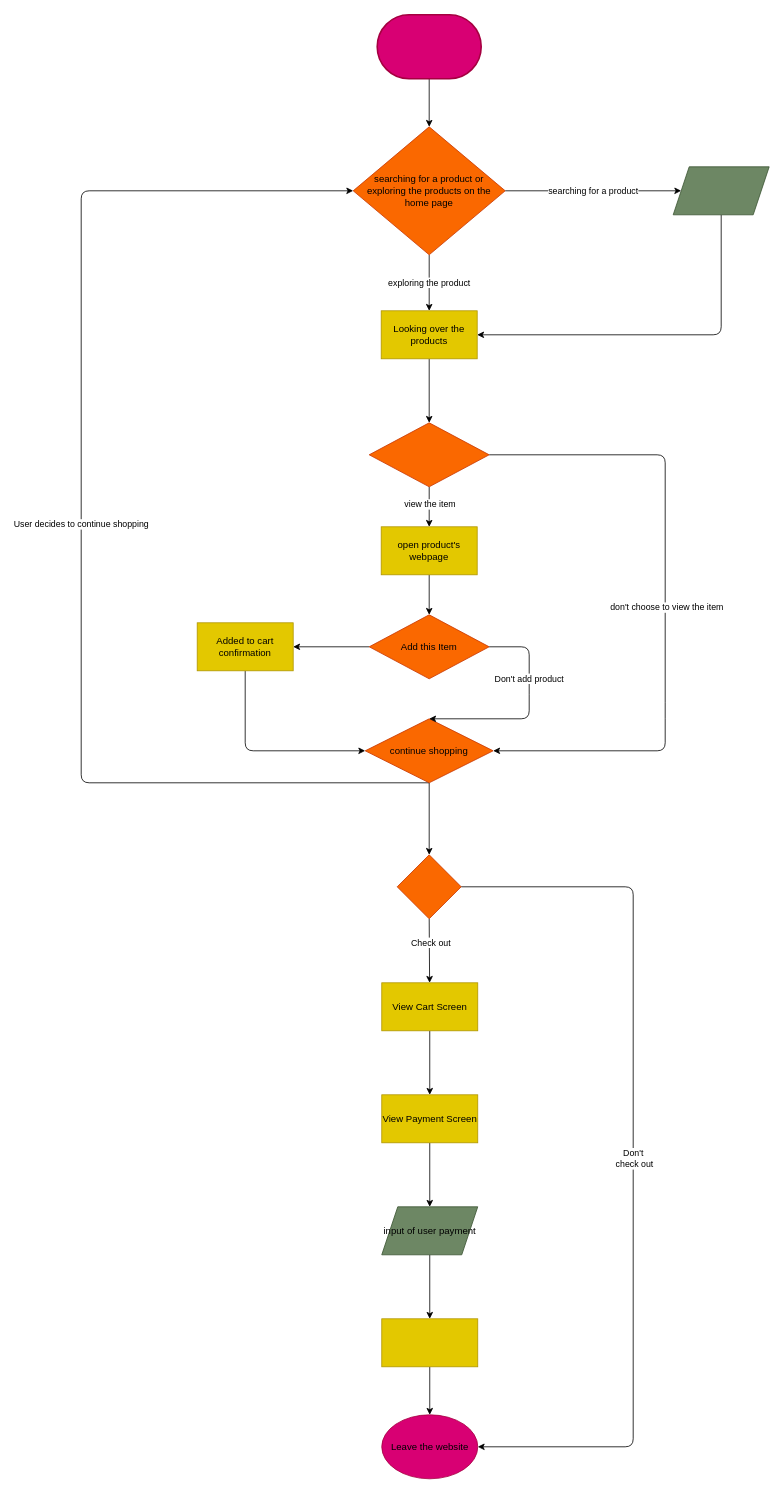
Some shapes in this 783 by 1493 pixel diagram are drawn without their labels. Here are the shapes that lost their labels. From the top down, the box of each, then its label:
(376, 14, 482, 79): The user begins by entering the website
(672, 166, 769, 215): input to the website of search product
(368, 422, 489, 487): Viewing a specific product
(396, 854, 461, 919): checkout
(381, 1318, 478, 1367): Order confirmation screen / send E-mail
